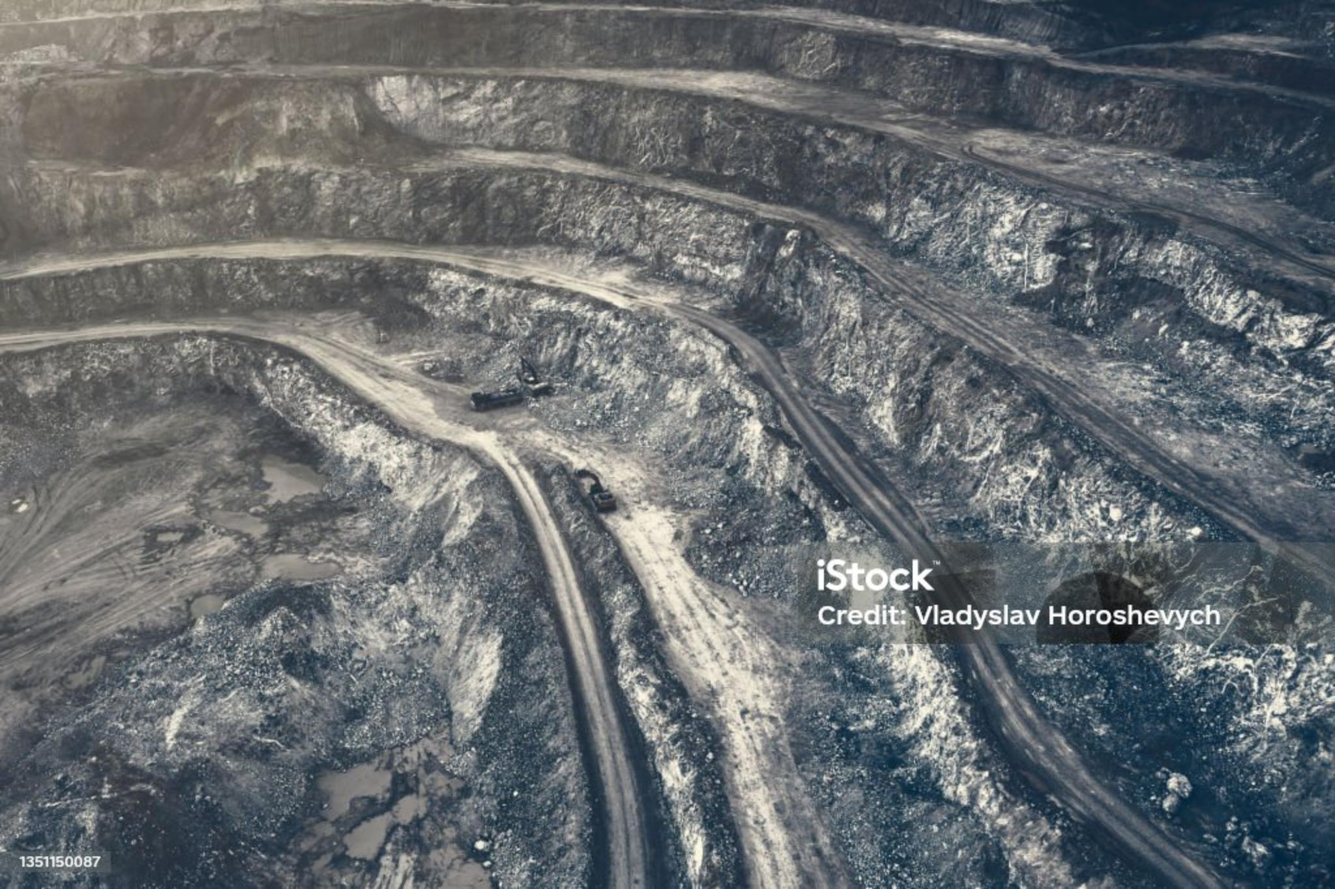benches: (437, 149, 1334, 592), (0, 308, 651, 888), (0, 236, 939, 554), (551, 69, 1334, 292), (962, 639, 1220, 888), (611, 515, 774, 713), (727, 722, 846, 888)
excavator: (574, 467, 634, 513), (518, 354, 554, 397)
truck: (471, 386, 525, 413)
